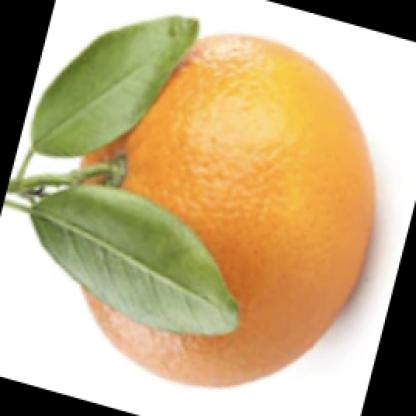fresh: (59, 33, 378, 388)
